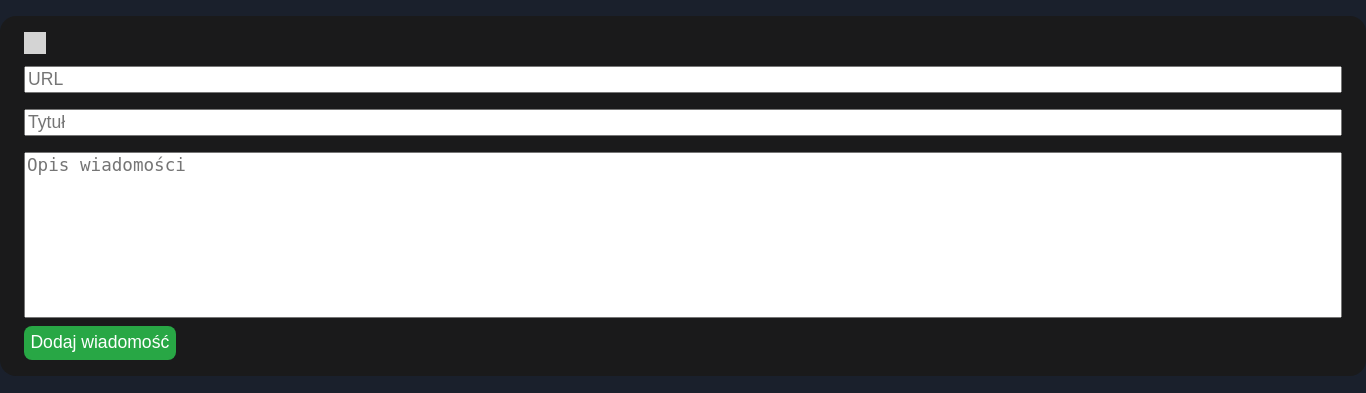
Test: <NewsCreator /> › is showing a backend error
The width and height of the screenshot is (1366, 393).
Type "www.test.pl" into the field with placeholder "URL" at (683, 80), box [24,66,1342,93]
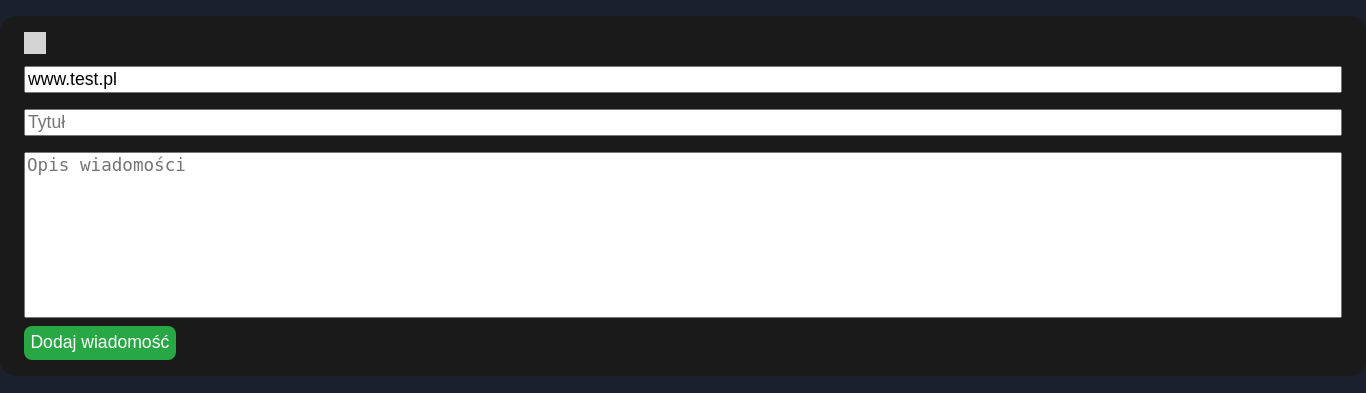
Type "12345678" into the field with placeholder "Tytuł" at (683, 122), box [24,109,1342,136]
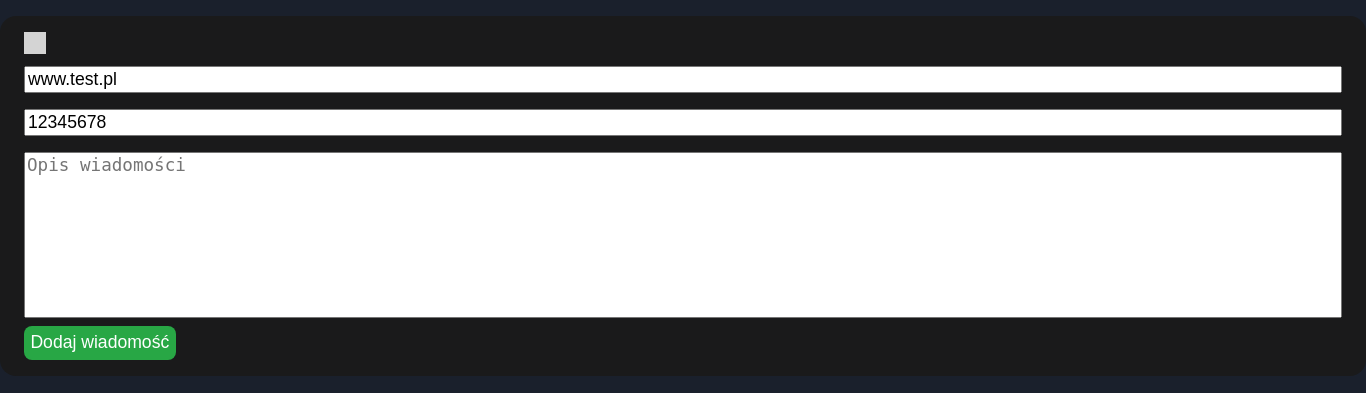
Type "12345678" into the text box at (683, 235), box [24,152,1342,318]
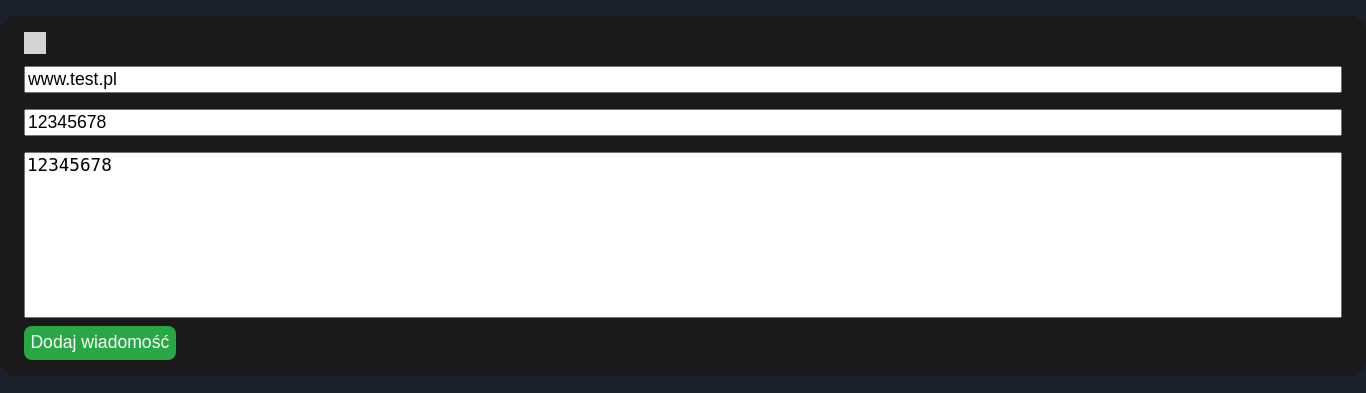
Click the button at (100, 343), box [24,326,176,360]
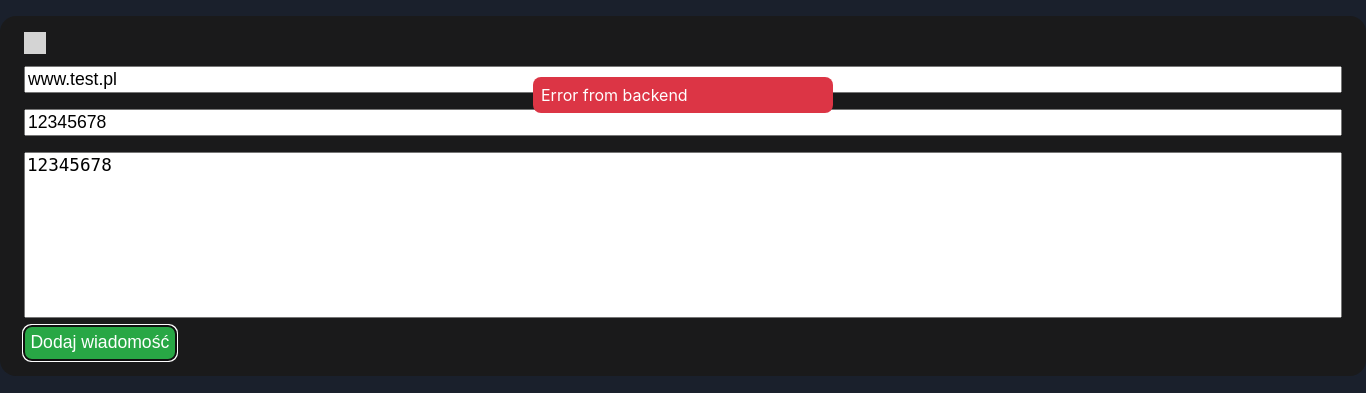
Result: the text "Error from backend" is shown at [533,77,833,113]
